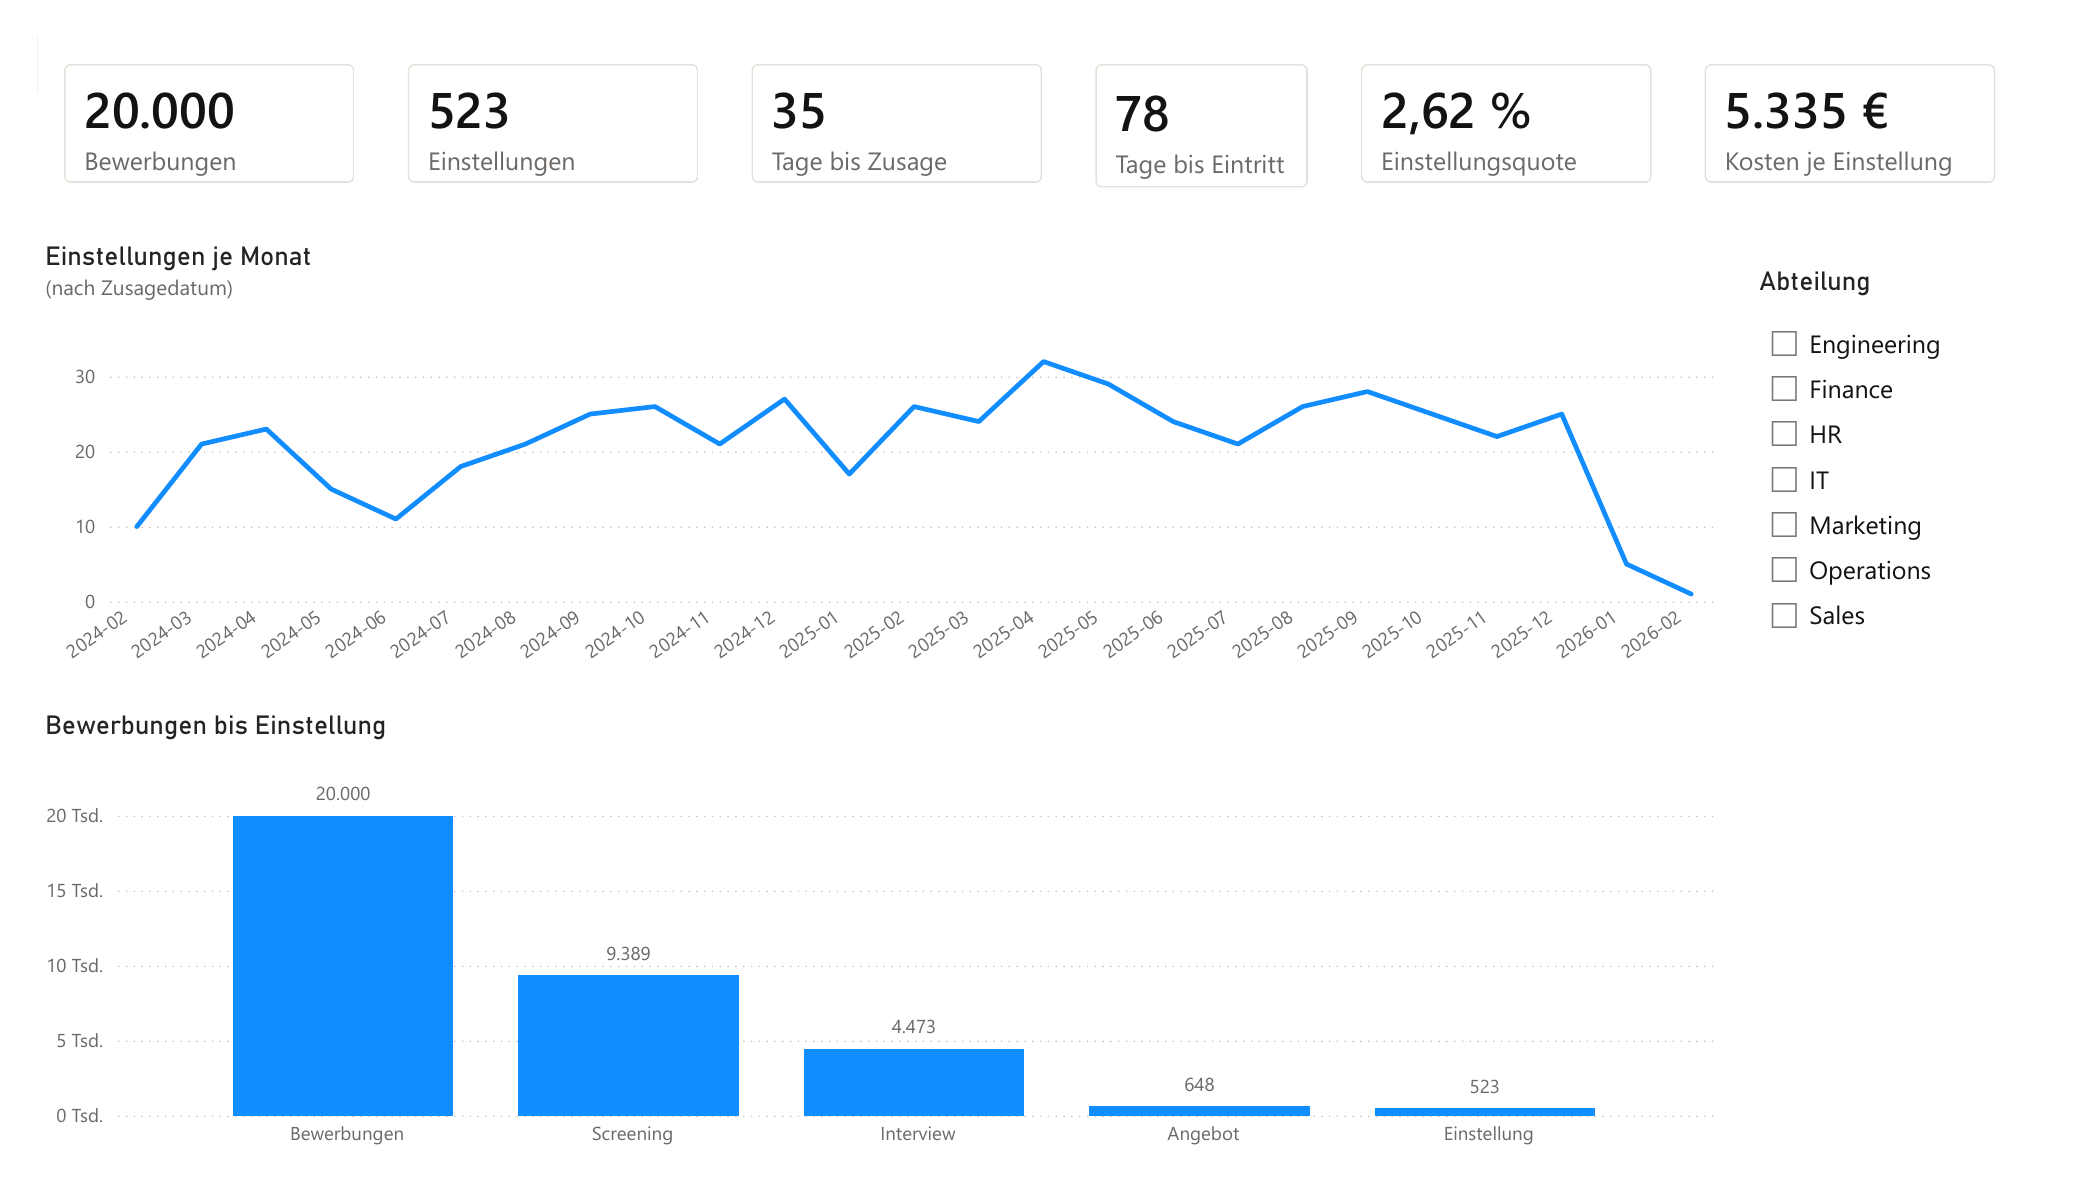

Layout of this report page (visuals, bound fields, positions):
{"tool":"powerbi","page":{"name":"Überblick","canvas":[1280,720],"ordinal":0},"visuals":[{"type":"cardVisual","fields":{"Data":["fact_application.Bewerbungen"]},"box":[0,0,220,110],"z":0},{"type":"cardVisual","fields":{"Data":["fact_application.Einstellungen"]},"box":[220,0,220,110],"z":1000},{"type":"cardVisual","fields":{"Data":["fact_application.Einstellungsquote"]},"box":[830,0,220,110],"z":2000},{"type":"cardVisual","title":"Tage bis Einstellung","fields":{"Data":["fact_application.Time-to-Hire Median"]},"box":[440,0,220,110],"z":3000},{"type":"cardVisual","fields":{"Data":["fact_application.Kosten je Einstellung"]},"box":[1050,0,220,110],"z":4000},{"type":"columnChart","title":"Bewerbungen bis Einstellung","fields":{"Category":["dim_stage.stage_name"],"Y":["fact_application.Trichterwert"]},"box":[0,429.9,1080,290],"z":5000},{"type":"lineChart","title":"Einstellungen je Monat","fields":{"Category":["dim_date.year_month"],"Y":["fact_application.Einstellungen nach Eintritt"]},"box":[0,130.3,1080,289.8],"z":6000},{"type":"slicer","title":"Abteilung","fields":{"Values":["dim_job.department"]},"box":[1097.1,145.9,182.9,274.3],"z":7000},{"type":"cardVisual","fields":{"Data":["fact_application.Time-to-Start Median"]},"box":[660,0,170,113],"z":7001}]}

Visuals, with their boxes on the page's 1280x720 design canvas (x1, y1, x2, y2). These are canvas units, not pixel positions in the 2075x1200 screenshot, which may show the page scaled, cropped or inside an application window:
cardVisual - fact_application.Bewerbungen: <box>0,0,220,110</box>
cardVisual - fact_application.Einstellungen: <box>220,0,440,110</box>
cardVisual - fact_application.Einstellungsquote: <box>830,0,1050,110</box>
"Tage bis Einstellung" cardVisual: <box>440,0,660,110</box>
cardVisual - fact_application.Kosten je Einstellung: <box>1050,0,1270,110</box>
"Bewerbungen bis Einstellung" columnChart: <box>0,430,1080,720</box>
"Einstellungen je Monat" lineChart: <box>0,130,1080,420</box>
"Abteilung" slicer: <box>1097,146,1280,420</box>
cardVisual - fact_application.Time-to-Start Median: <box>660,0,830,113</box>
